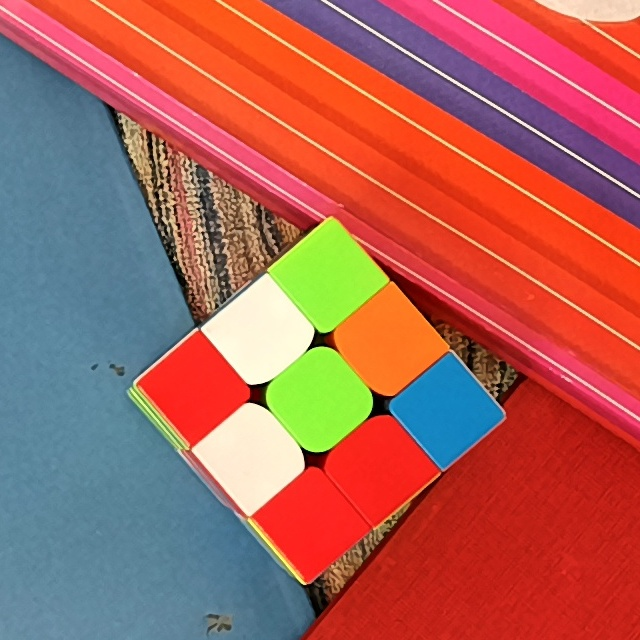tile: (418, 379, 476, 441), (295, 250, 355, 309), (166, 359, 223, 420), (290, 371, 348, 430), (281, 492, 339, 551), (351, 440, 408, 497), (224, 428, 282, 484), (363, 314, 420, 369), (232, 305, 290, 358)
